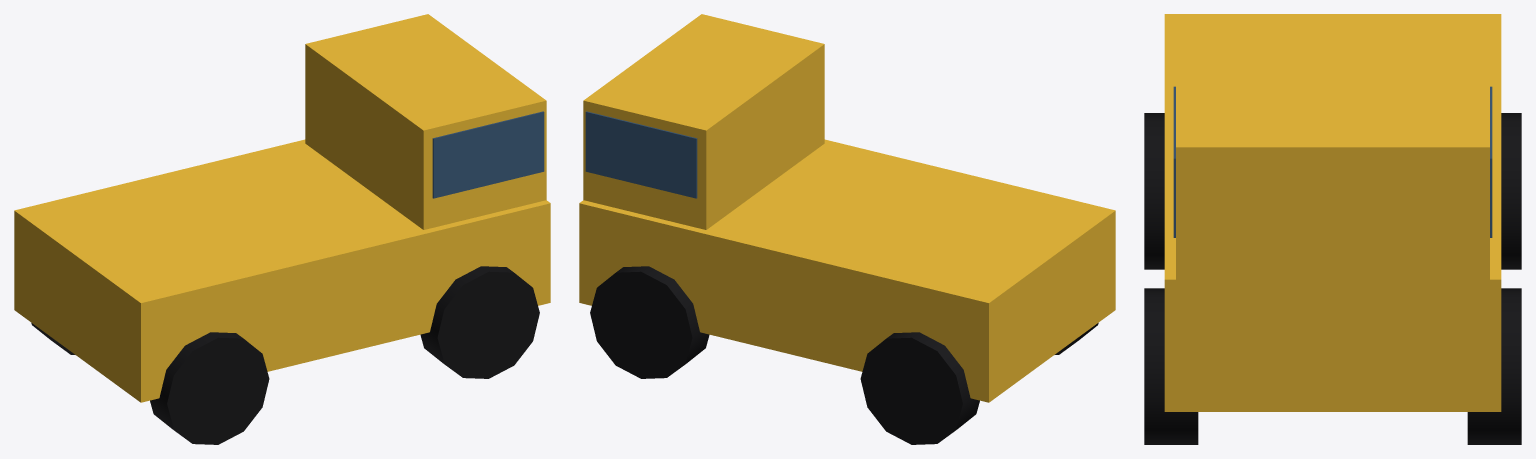
Rendered from van.glb.
3 views of the same model, side by side, from view 1: azimuth 30°, elevation 25°; view 2: azimuth 150°, elevation 25°; view 3: azimuth 270°, elevation 25° (orthographic). The views are drawn at different scales.
Parts seen in each view (by area): view 1: van; view 2: van; view 3: van.
Boxes of the visible parts, x1,y1,x2,y2 form: van: (14,14,550,444); van: (579,14,1115,444); van: (1144,14,1521,444).
Bounding box in the file's own units: 2.8 × 1.65 × 1.68.
